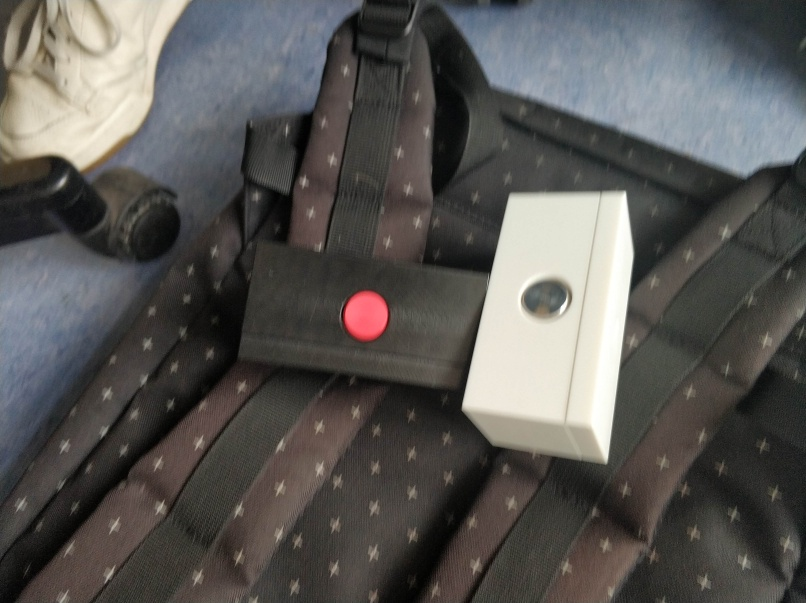black+black+red: (233, 238, 494, 394)
white+white+silver: (458, 188, 639, 466)
